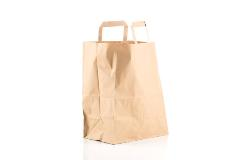paper: (82, 20, 168, 144)
